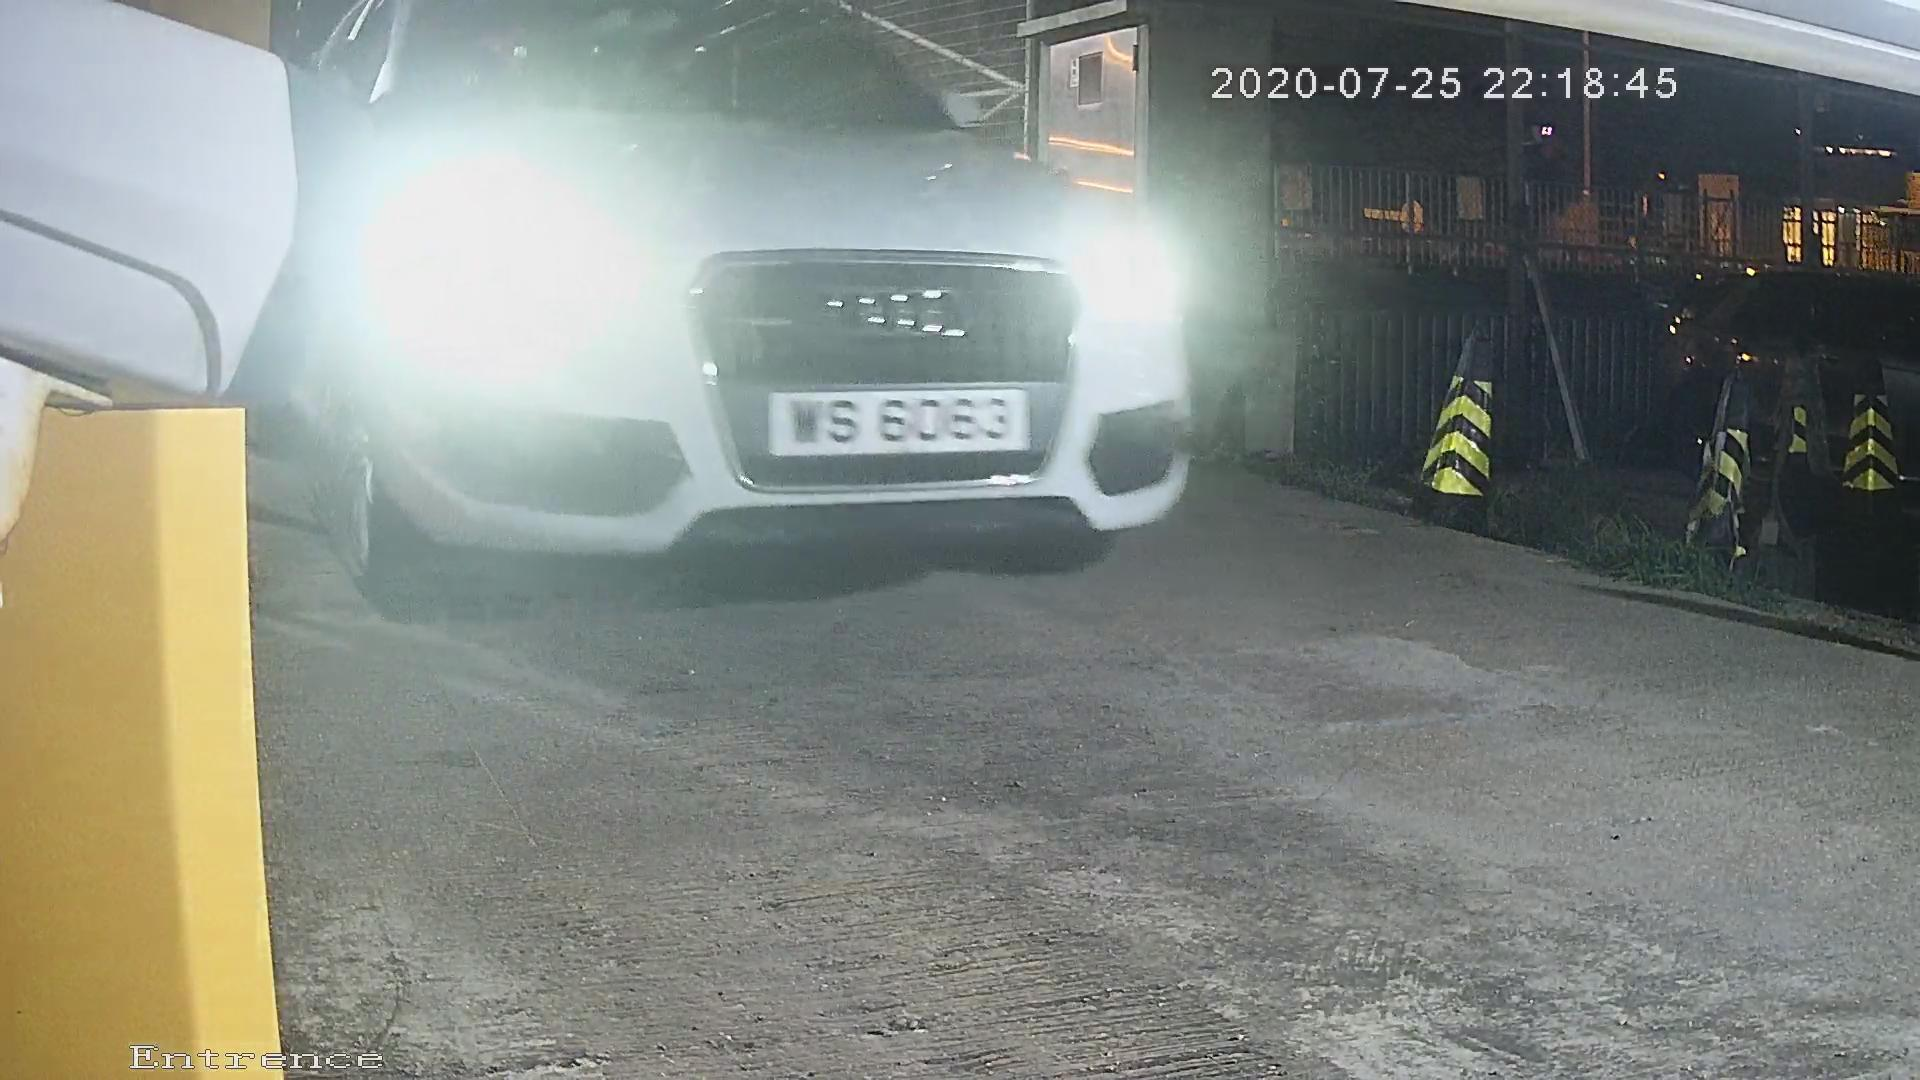privatecar: (249, 15, 1329, 626)
